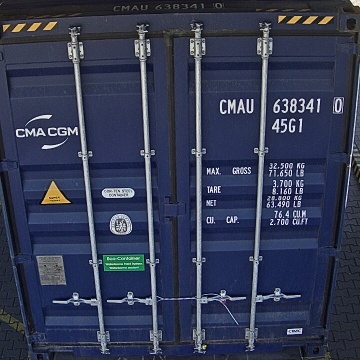serial_id: (220, 97, 344, 113)
